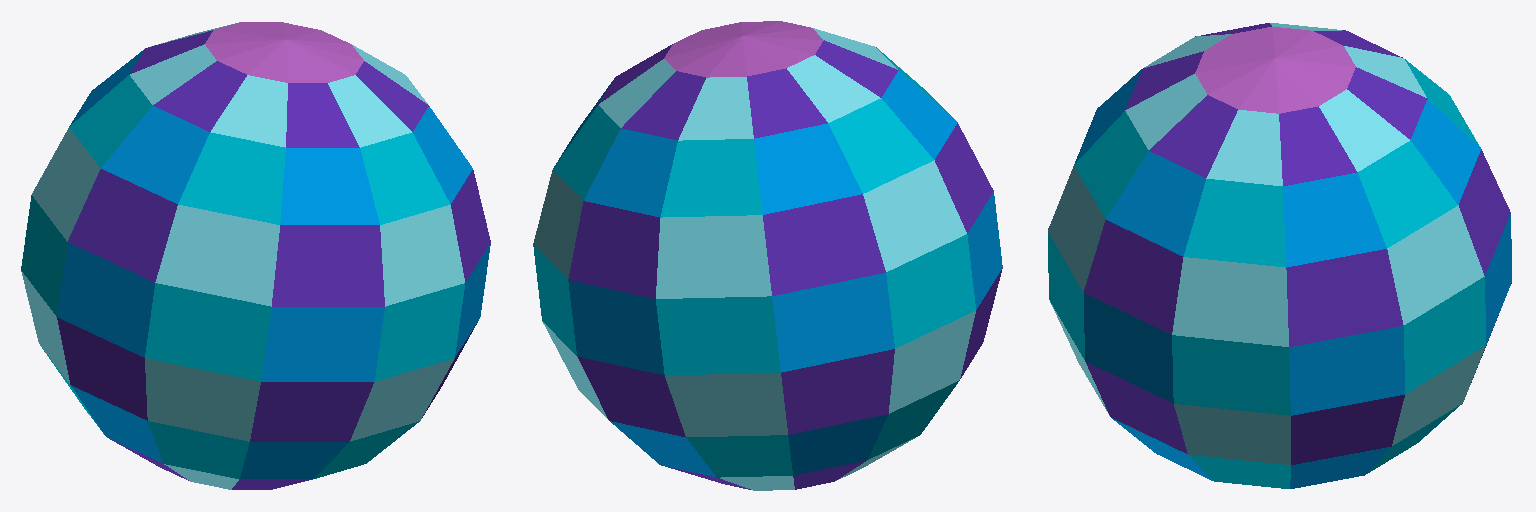
Rendered from model-triangulated.obj.
3 renders of one model, left to right at view 1: azimuth 30°, elevation 25°; view 2: azimuth 150°, elevation 25°; view 3: azimuth 270°, elevation 25°, orthographic.
Parts seen in each view (by area): view 1: group[number redacted]; view 2: group[number redacted]; view 3: group[number redacted].
Boxes of the visible parts, x1,y1,x2,y2 form: group[number redacted]: [21, 22, 490, 489]; group[number redacted]: [533, 21, 1002, 490]; group[number redacted]: [1048, 23, 1511, 488].
Bounding box in the file's own units: 2.26 × 2.24 × 2.23.